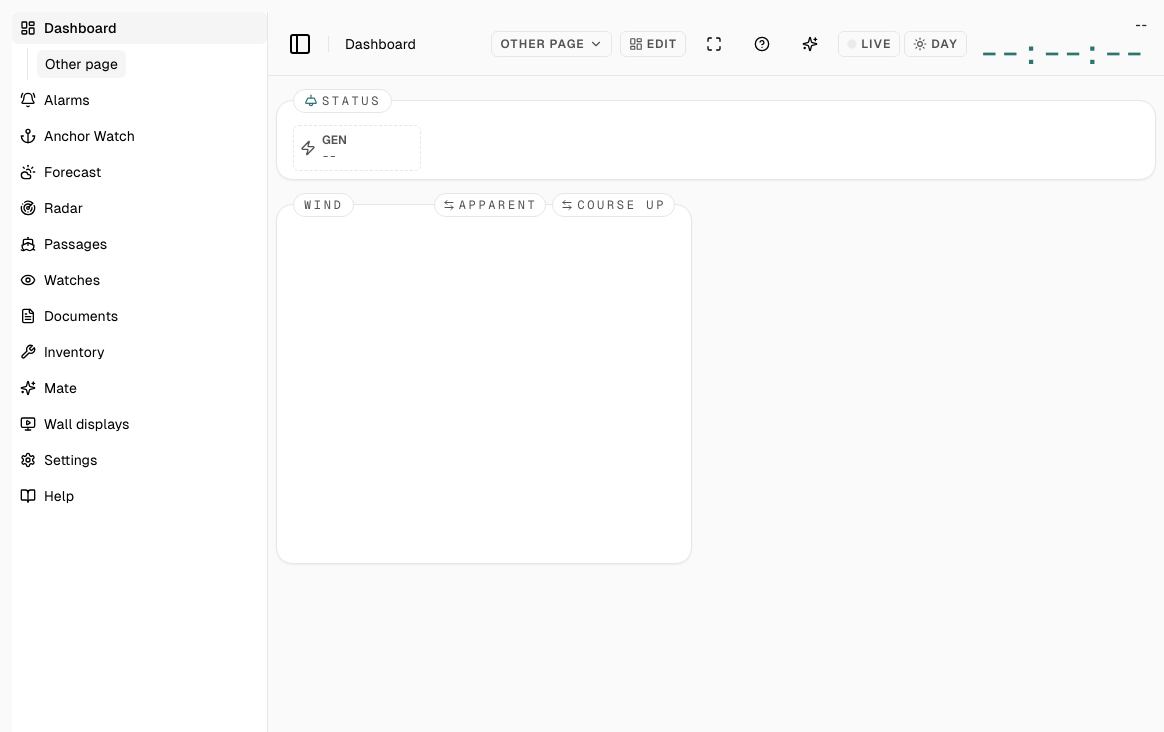
Test case: App at / (dashboard authoring) › reaches the wall displays index from one sidebar item, listing every display and its address
The image size is (1164, 732).
Click the button "Wall displays" at (140, 424), box [12,408,267,440]
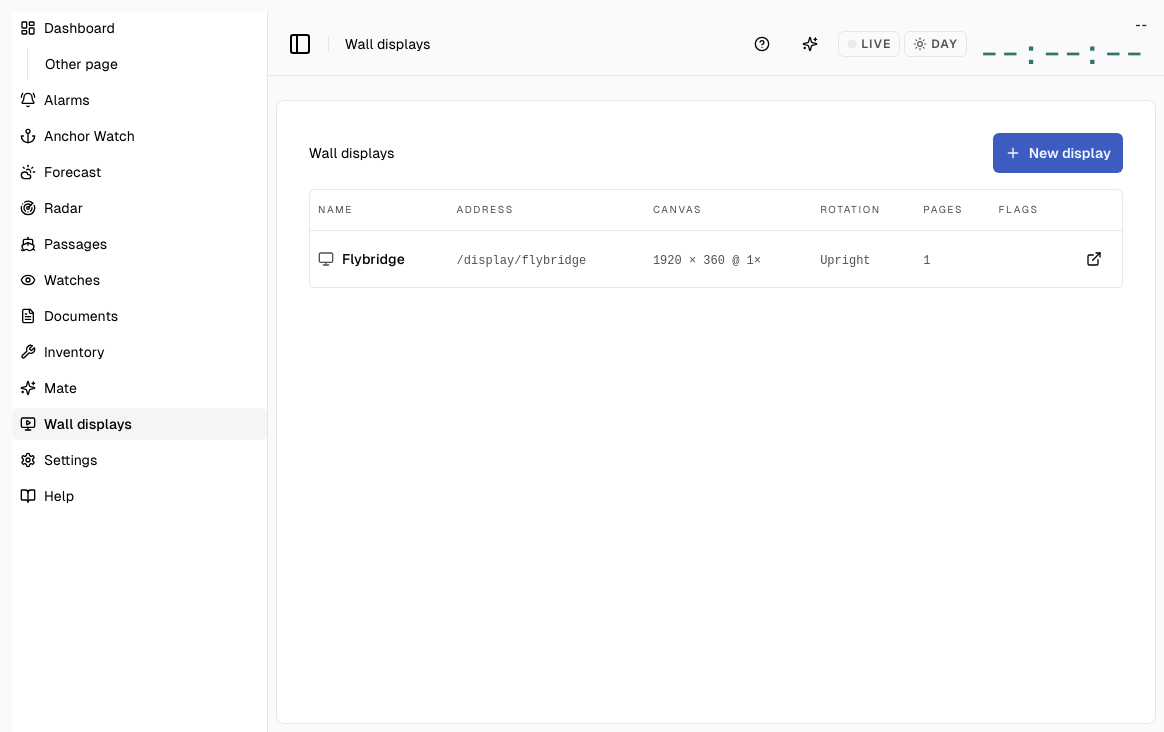
Result: the button "Flybridge" is shown at [318,238,405,278]
Result: the text "/display/flybridge" is shown at [457,254,586,268]
